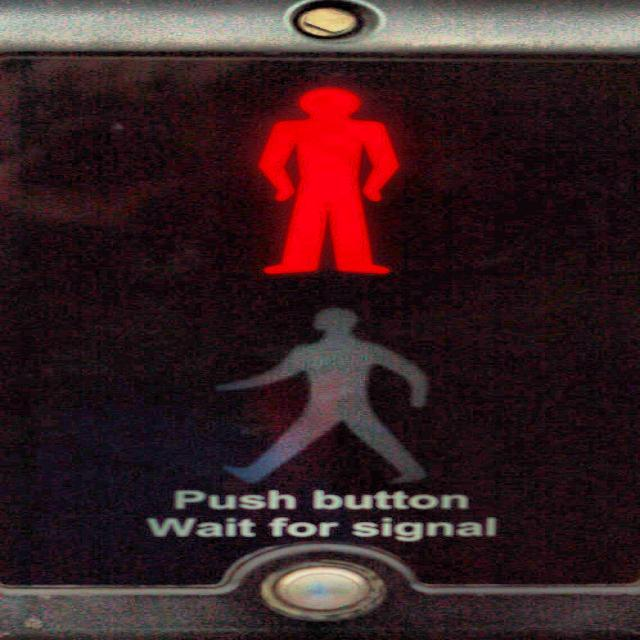red_light: (250, 83, 410, 280)
